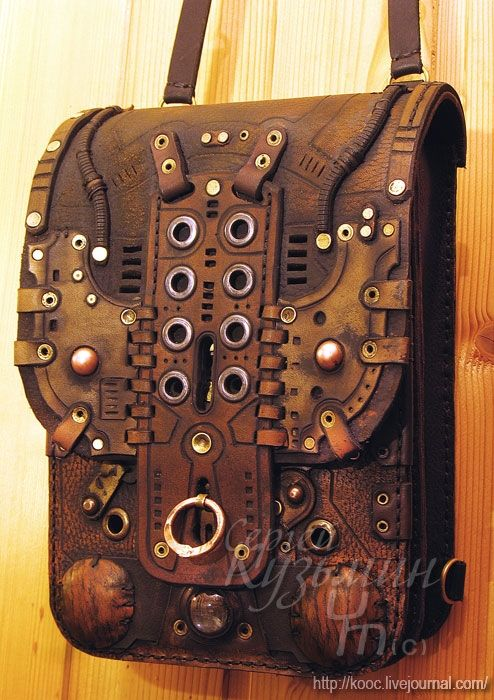cuero: (17, 1, 470, 677)
